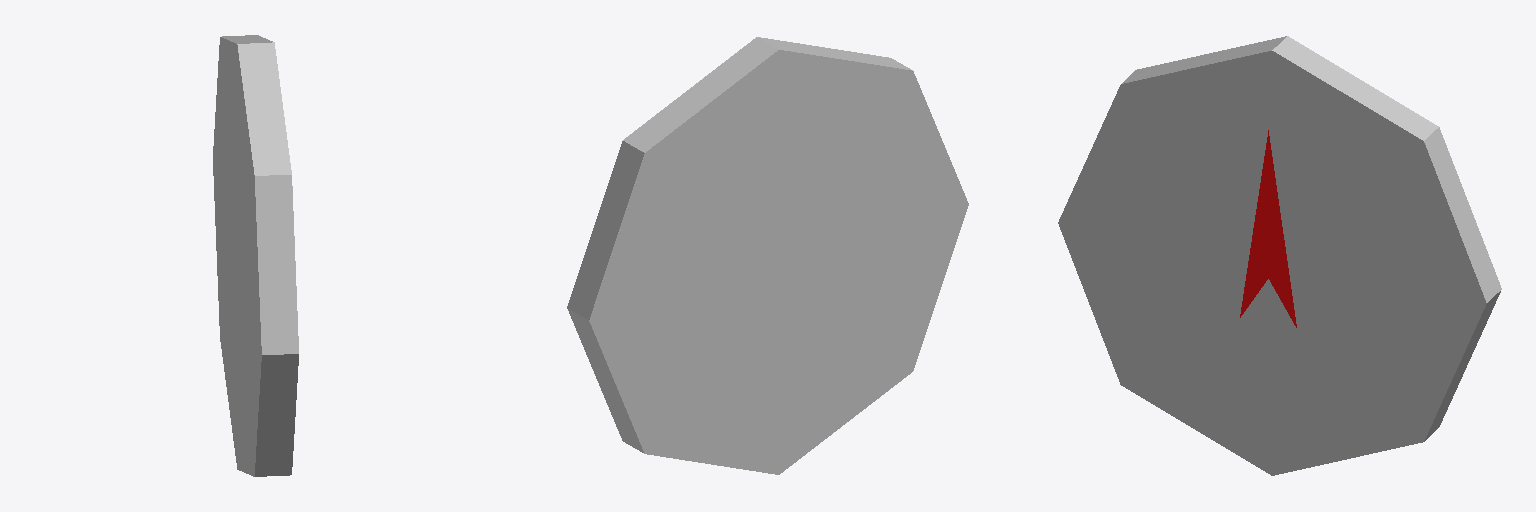
Rendered from compass.obj.
3 renders of one model, left to right at view 1: azimuth 30°, elevation 25°; view 2: azimuth 150°, elevation 25°; view 3: azimuth 270°, elevation 25°, orthographic.
Parts seen in each view (by area): view 1: compass_body; view 2: compass_body; view 3: compass_body, compass_needle.
Part boxes in pixels (x1,y1,x2,y2): compass_body: (213,35,298,476); compass_body: (567,37,968,474); compass_body: (1058,36,1501,475); compass_needle: (1240,130,1296,327).
Bounding box in the file's own units: 0.9596 × 2 × 1.89.